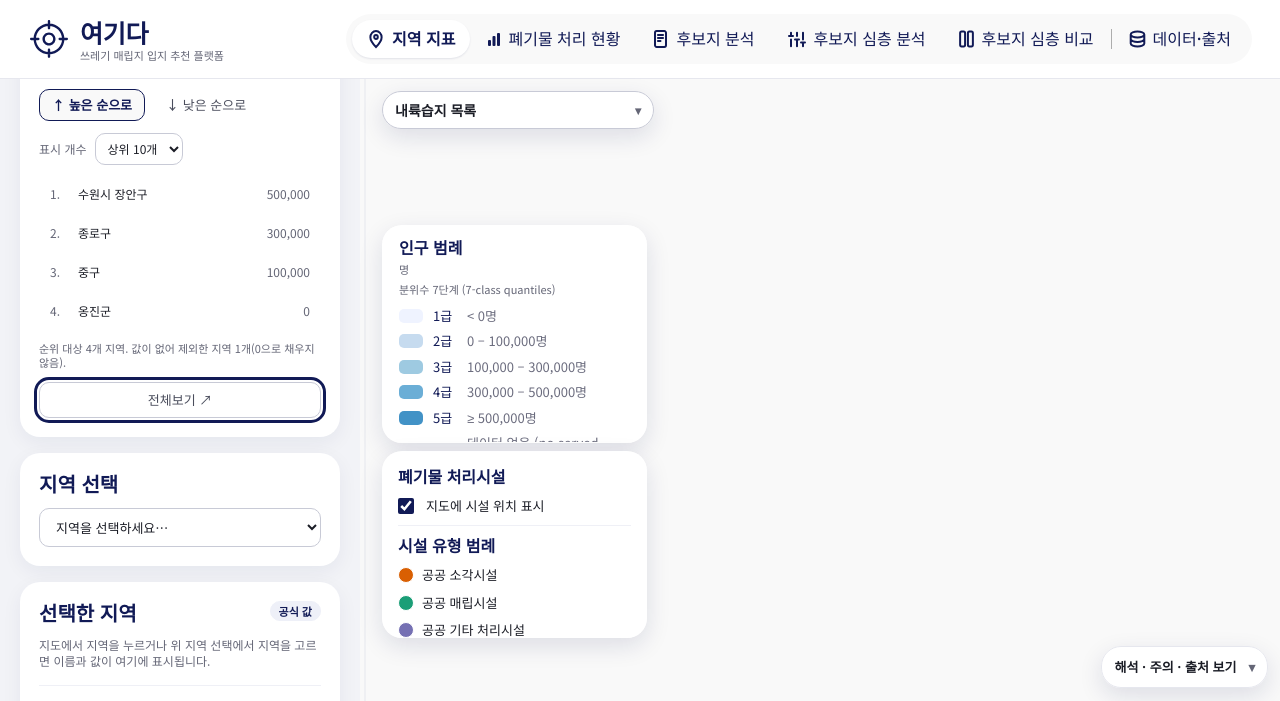
Test: 지역 순위 전체보기 › opens the complete ranking for the CURRENT metric, with no top-N cut
(page scrolled)
Click the button with test id "open-full-ranking": (180, 400) [39,382,321,418]
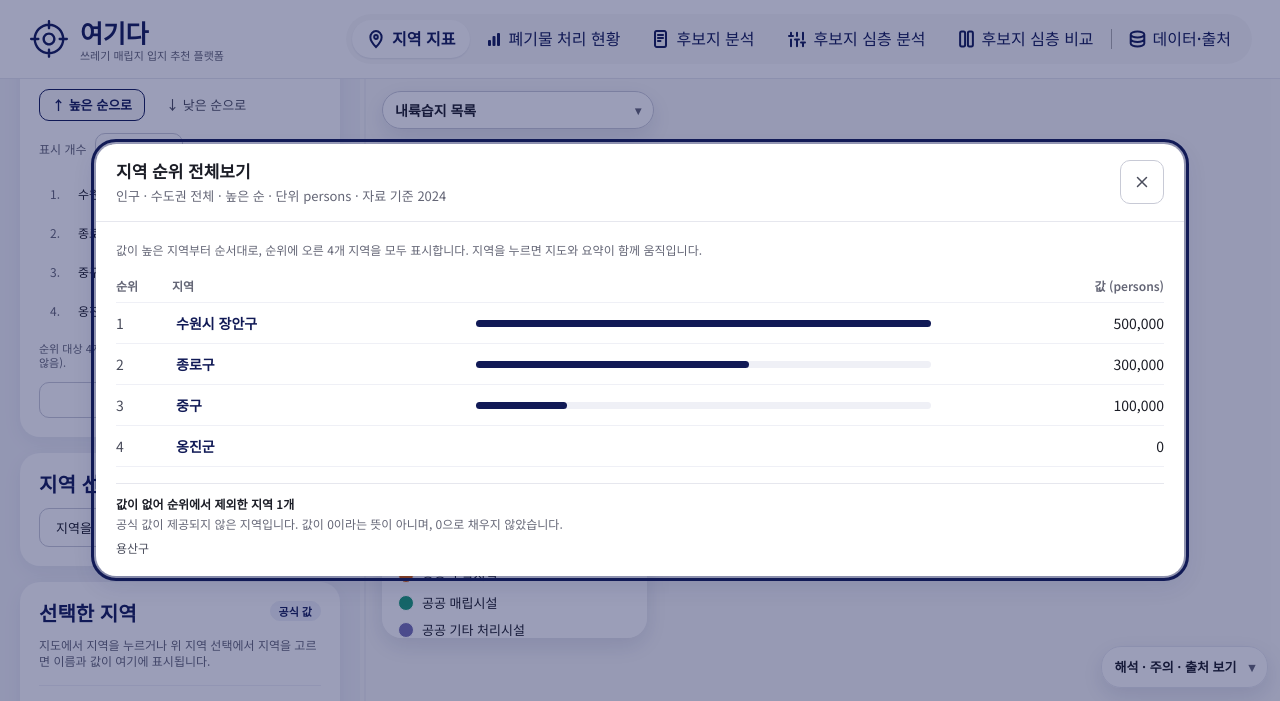
Now the heading "지역 순위 전체보기" is shown, box [116,158,251,183]
Now the dialog with test id "full-ranking-dialog" shows "인구", box [116,186,446,205]
Now the number of rows with test id "full-ranking-row" is 4, box [116,303,1164,344]; [116,344,1164,385]; [116,385,1164,426]; [116,426,1164,467]
